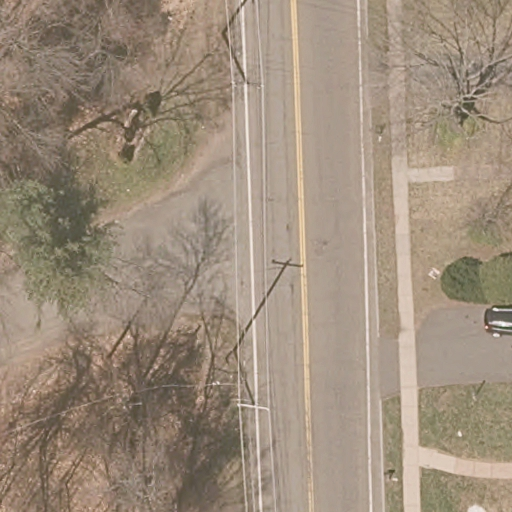DT: (219, 30, 264, 93), (230, 349, 270, 413)
